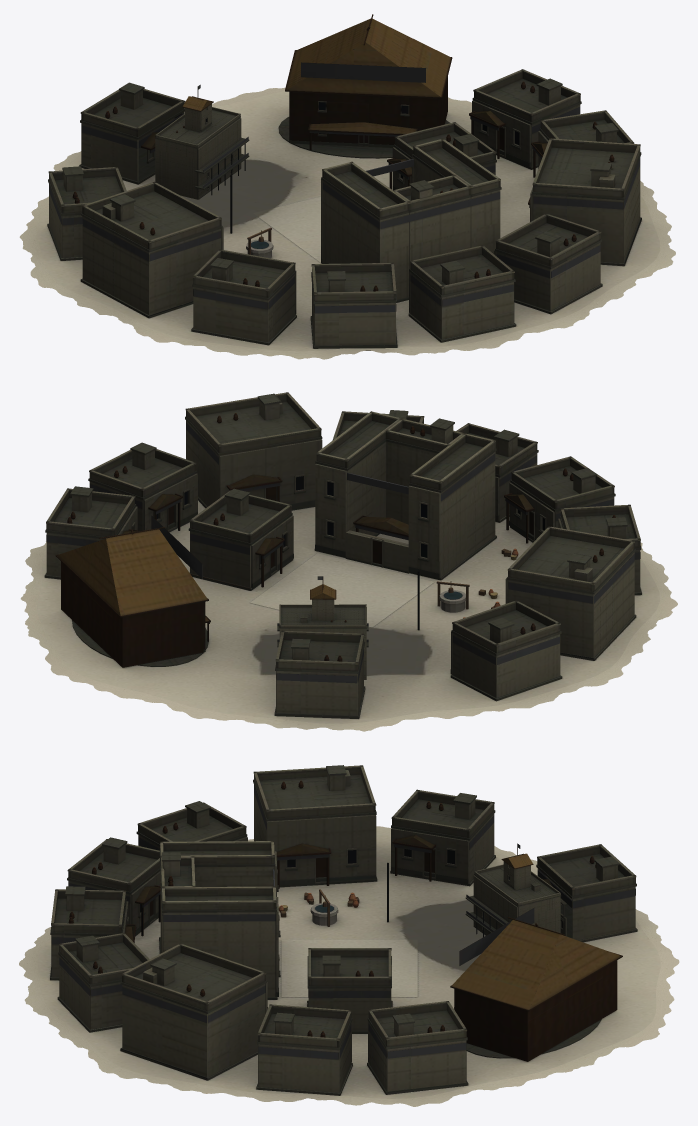
File: gunpowder-town-medium-a-eastafrica.glb
3 views of the same model, one above another, from view 1: azimuth 30°, elevation 25°; view 2: azimuth 150°, elevation 25°; view 3: azimuth 270°, elevation 25° (orthographic).
Visible parts, largest first — view 1: LOD0; view 2: LOD0; view 3: LOD0.
Boxes of the visible parts, x1,y1,x2,y2 form: LOD0: [19, 14, 675, 359]; LOD0: [20, 392, 677, 731]; LOD0: [19, 765, 679, 1106].
Size of what is drawn, in the model's own units: 5.99 by 1.07 by 5.92.
3 materials, 3 textured.
